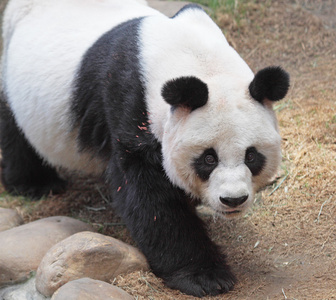panda: (1, 3, 294, 300)
